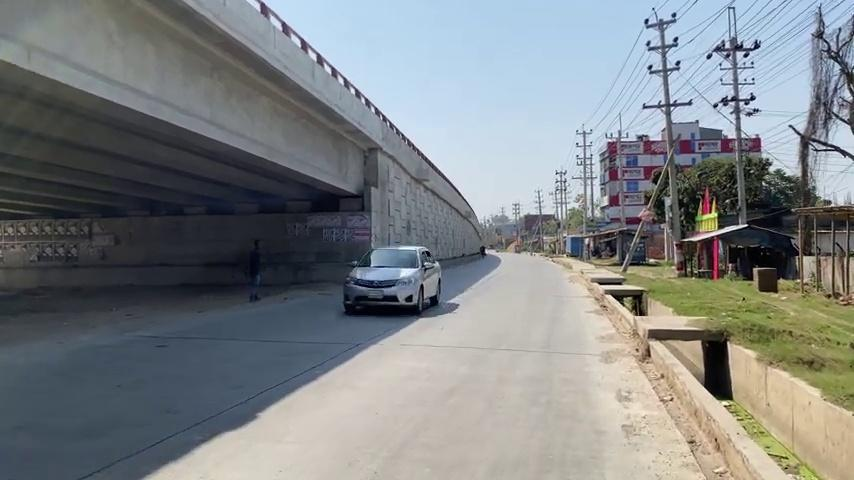Bollard: (342, 244, 441, 315)
Car: (619, 293, 840, 479)
Fallen-tree: (0, 0, 487, 287)
Fence: (247, 238, 262, 302)
Garbage: (643, 12, 689, 260), (709, 5, 760, 224), (619, 150, 675, 273)
